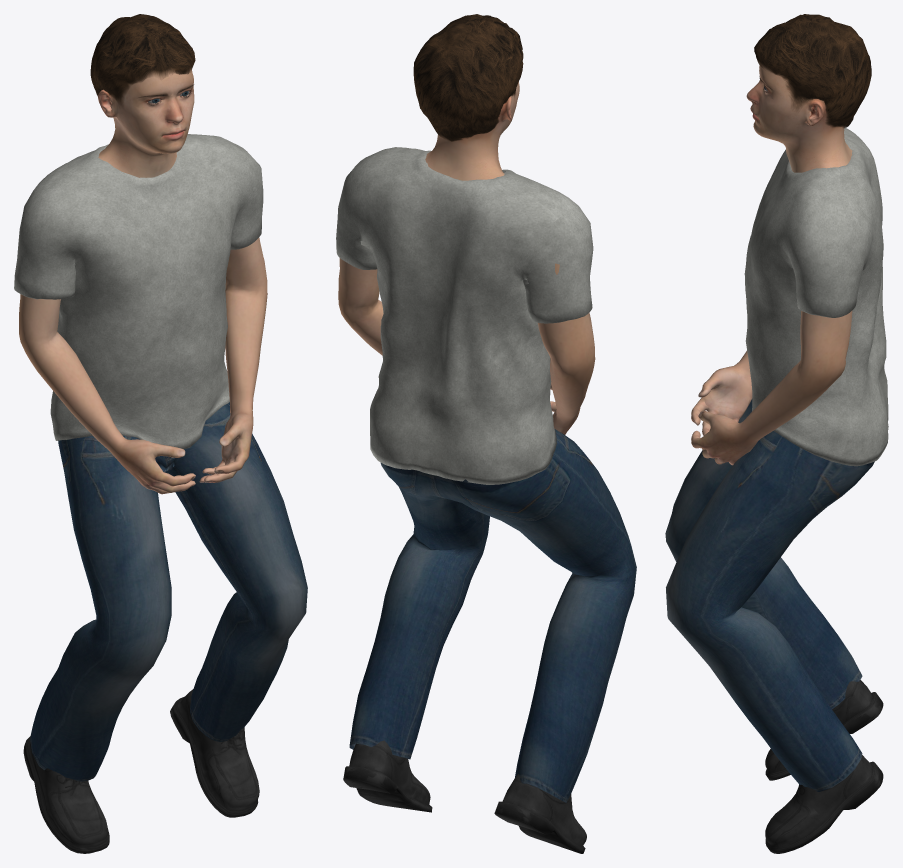
The model's file is civ_nz_schlaf_m.glb.
3 views of the same model, side by side, from view 1: azimuth 30°, elevation 25°; view 2: azimuth 150°, elevation 25°; view 3: azimuth 270°, elevation 25° (orthographic). The views are drawn at different scales.
Visible parts, largest first — view 1: lie; view 2: lie; view 3: lie.
Boxes of the visible parts, bbox=[...] form: lie: bbox=[14, 14, 307, 853]; lie: bbox=[336, 14, 636, 853]; lie: bbox=[665, 14, 888, 853].
Bounding box in the file's own units: 0.4958 × 1.56 × 0.3986.
Materials: 7 (7 with a texture image).
